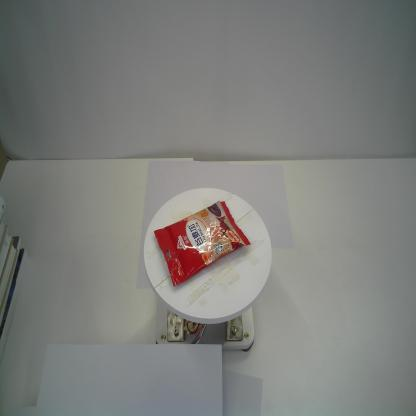Instant Drink: (151, 198, 250, 289)
